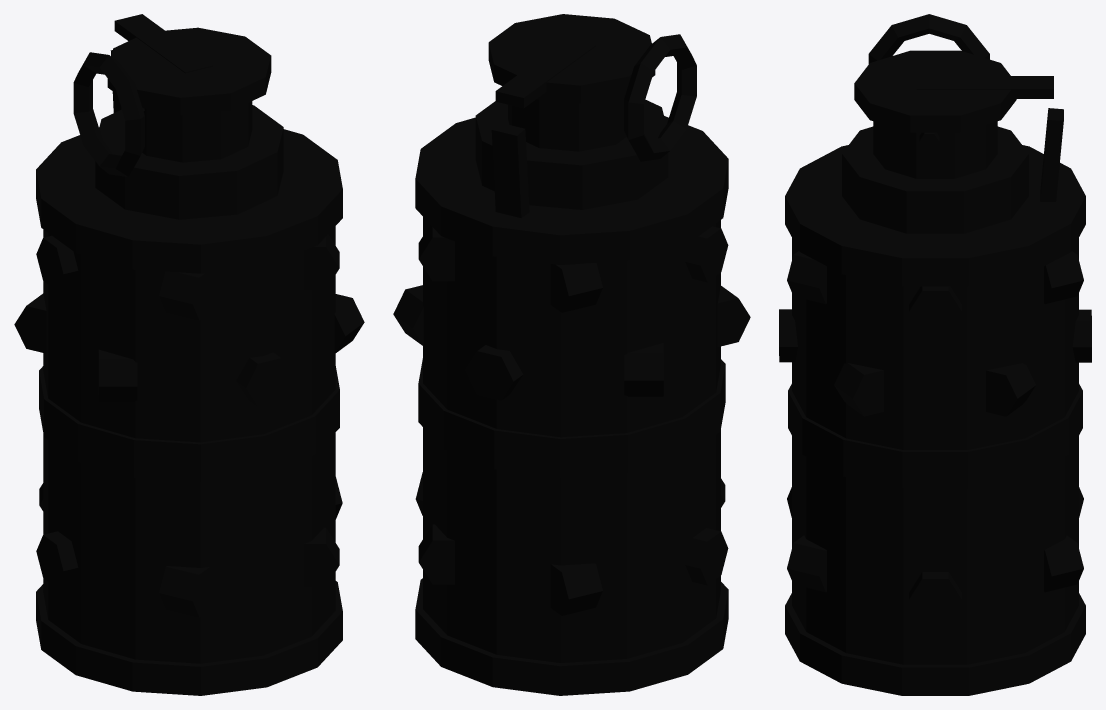
3 views of the same model, side by side, from view 1: azimuth 30°, elevation 25°; view 2: azimuth 150°, elevation 25°; view 3: azimuth 270°, elevation 25° (orthographic). The views are drawn at different scales.
Visible parts, largest first — view 1: flash; view 2: flash; view 3: flash.
Boxes of the visible parts, left/top/right/bottom form: flash: left=14, top=14, right=364, bottom=695; flash: left=393, top=14, right=750, bottom=695; flash: left=779, top=14, right=1091, bottom=695.
Bounding box in the file's own units: 0.061 × 0.125 × 0.0611.
Materials: 1 (1 with a texture image).
